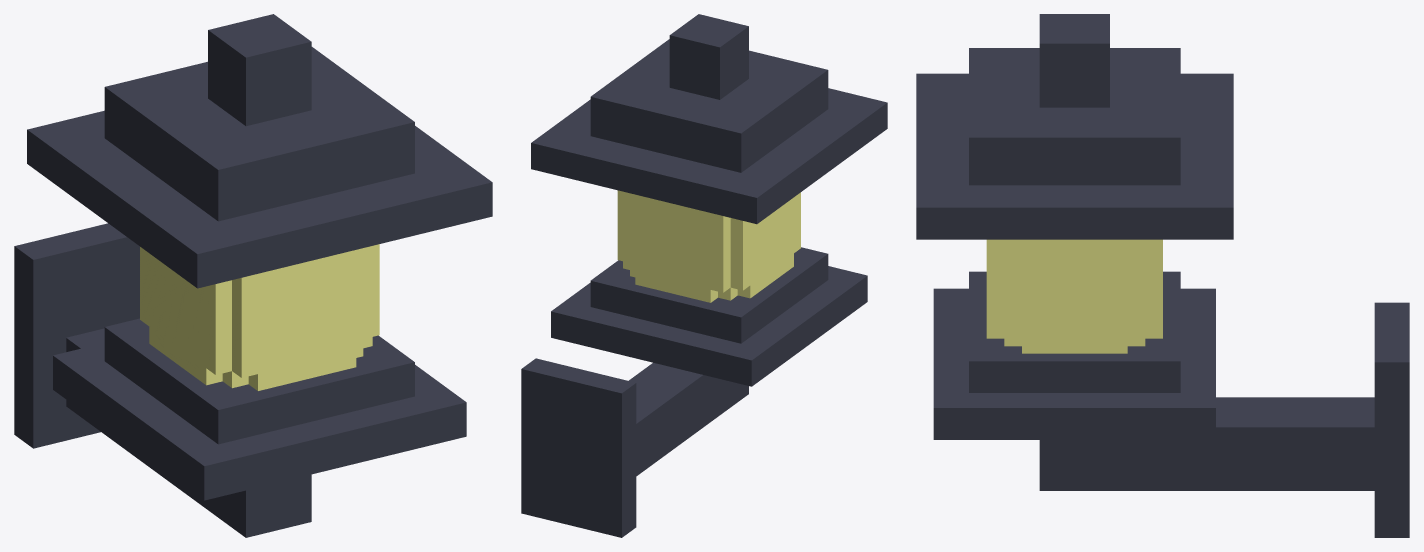
Rendered from stage8_light.obj.
3 views of the same model, side by side, from view 1: azimuth 30°, elevation 25°; view 2: azimuth 150°, elevation 25°; view 3: azimuth 270°, elevation 25° (orthographic). The views are drawn at different scales.
Size of the model in its own units: 1.8 by 3 by 2.8.
1 material, 1 textured.
